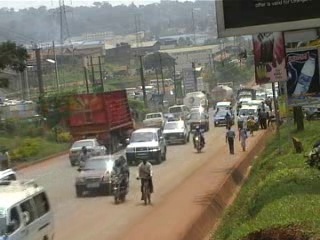Car: (68, 154, 132, 200), (124, 127, 171, 167), (63, 135, 108, 167), (186, 111, 212, 132), (212, 108, 236, 128), (188, 103, 210, 117), (213, 97, 233, 112), (161, 108, 179, 122)
Motorcycle: (110, 159, 134, 207), (73, 144, 91, 173), (192, 128, 207, 153)
